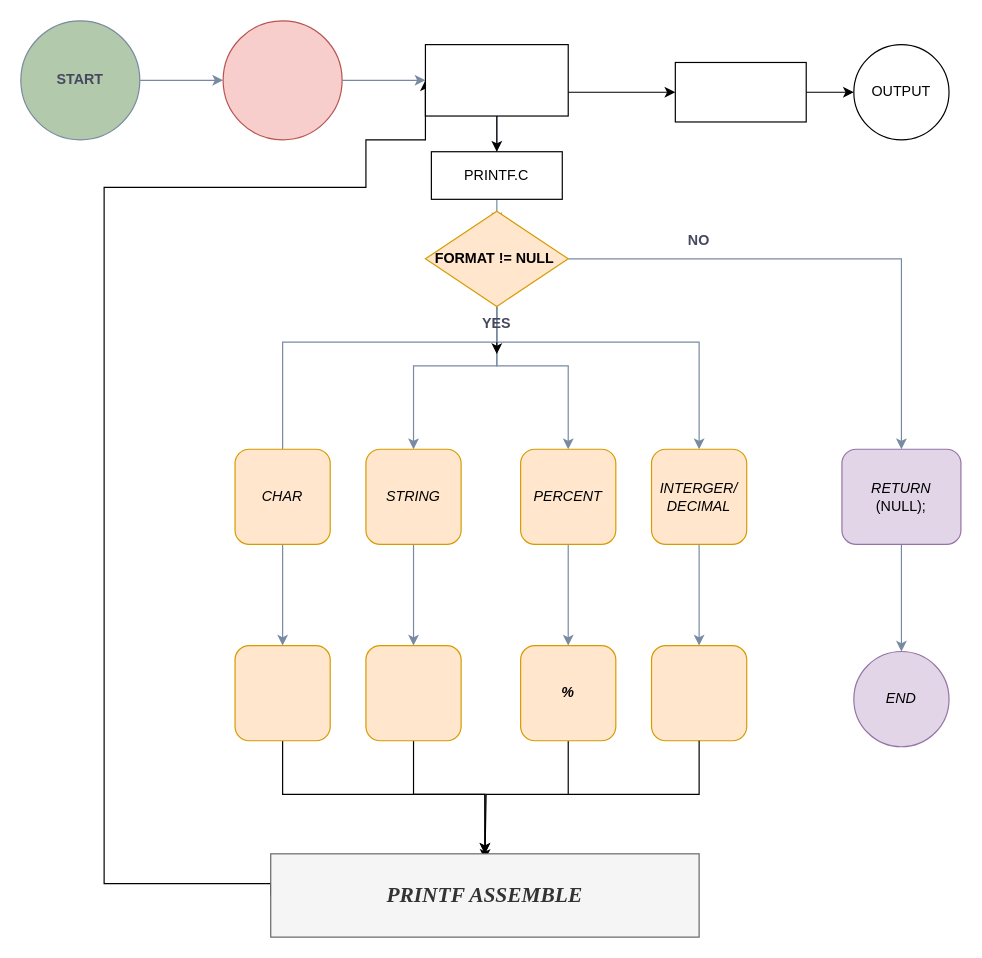
Some shapes in this 982 by 958 pixel diagram are drawn without their labels. The shapes that lost their labels are listed below. From the top down, each one's centre as x and y in pixels, then its label:
At (x=282, y=80): "DECLARATION PRINTF".
At (x=496, y=79): "MAIN.C".
At (x=740, y=91): "RETURN".
At (x=282, y=692): "%c".
At (x=413, y=692): "%s".
At (x=698, y=692): "%d / %i".
